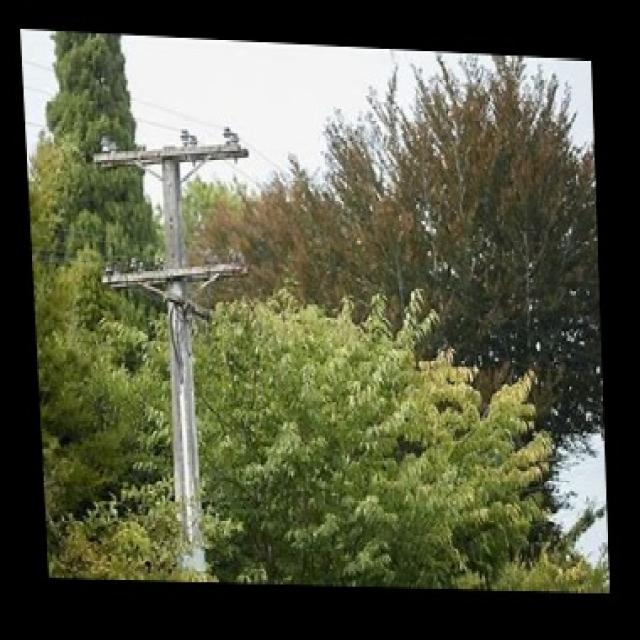utility poles: (82, 103, 275, 574)
